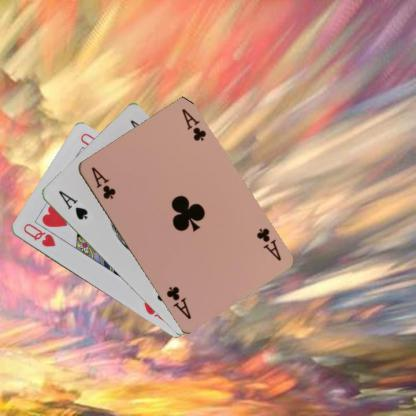Ac: (88, 164, 117, 200), (253, 226, 282, 262)
As: (54, 188, 89, 221)
Qh: (20, 221, 57, 248)
